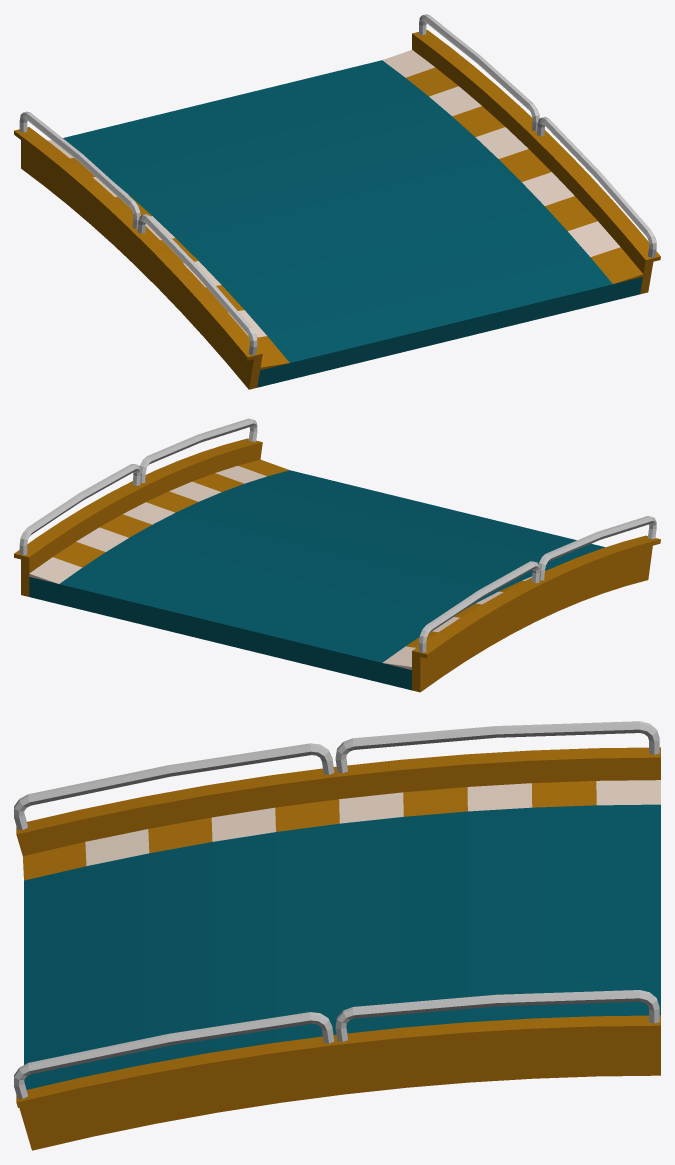
The model's file is descent-15_s.FBX.
3 views of the same model, one above another, from view 1: azimuth 30°, elevation 25°; view 2: azimuth 150°, elevation 25°; view 3: azimuth 270°, elevation 25° (orthographic). The views are drawn at different scales.
Parts seen in each view (by area): view 1: descent-15_s, wall_r, wall_l, curbs_l, curbs_r; view 2: descent-15_s, wall_r, wall_l, curbs_l, curbs_r; view 3: descent-15_s, wall_l, wall_r, curbs_r.
Boxes of the visible parts, left/top/right/bottom form: descent-15_s: left=63, top=60, right=642, bottom=387; wall_r: left=14, top=111, right=262, bottom=389; wall_l: left=412, top=14, right=660, bottom=294; curbs_l: left=382, top=50, right=643, bottom=283; curbs_r: left=48, top=140, right=289, bottom=370; descent-15_s: left=29, top=470, right=605, bottom=690; wall_r: left=412, top=516, right=660, bottom=692; wall_l: left=14, top=418, right=262, bottom=596; curbs_l: left=29, top=459, right=289, bottom=583; curbs_r: left=382, top=569, right=549, bottom=669; descent-15_s: left=24, top=804, right=660, bottom=1089; wall_l: left=14, top=990, right=660, bottom=1150; wall_r: left=14, top=721, right=660, bottom=855; curbs_r: left=23, top=780, right=660, bottom=880.
Size of what is drawn, in the model's own units: 207 by 55.32 by 203.
